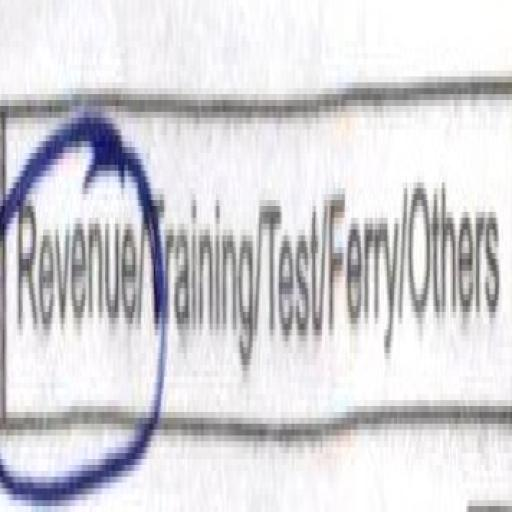check: (2, 59, 150, 512)
